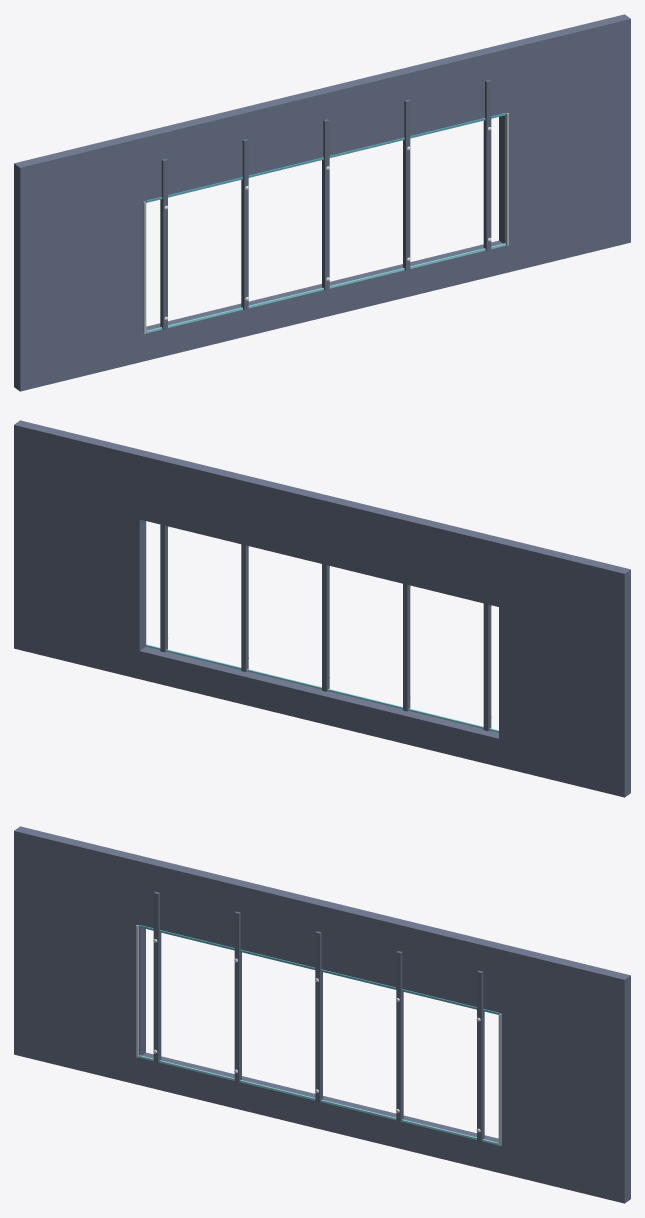
File: ventanal_tierra.glb
The picture shows the model from 3 angles, top to bottom: view 1: azimuth 30°, elevation 25°; view 2: azimuth 150°, elevation 25°; view 3: azimuth 330°, elevation 25°; orthographic projection.
Parts seen in each view (by area): view 1: ventanal_tierra; view 2: ventanal_tierra; view 3: ventanal_tierra.
Boxes of the visible parts, x1,y1,x2,y2 form: ventanal_tierra: (14,14,630,391); ventanal_tierra: (14,420,630,797); ventanal_tierra: (14,826,630,1203).
Bounding box in the file's own units: 34 × 11.9 × 0.8762.
